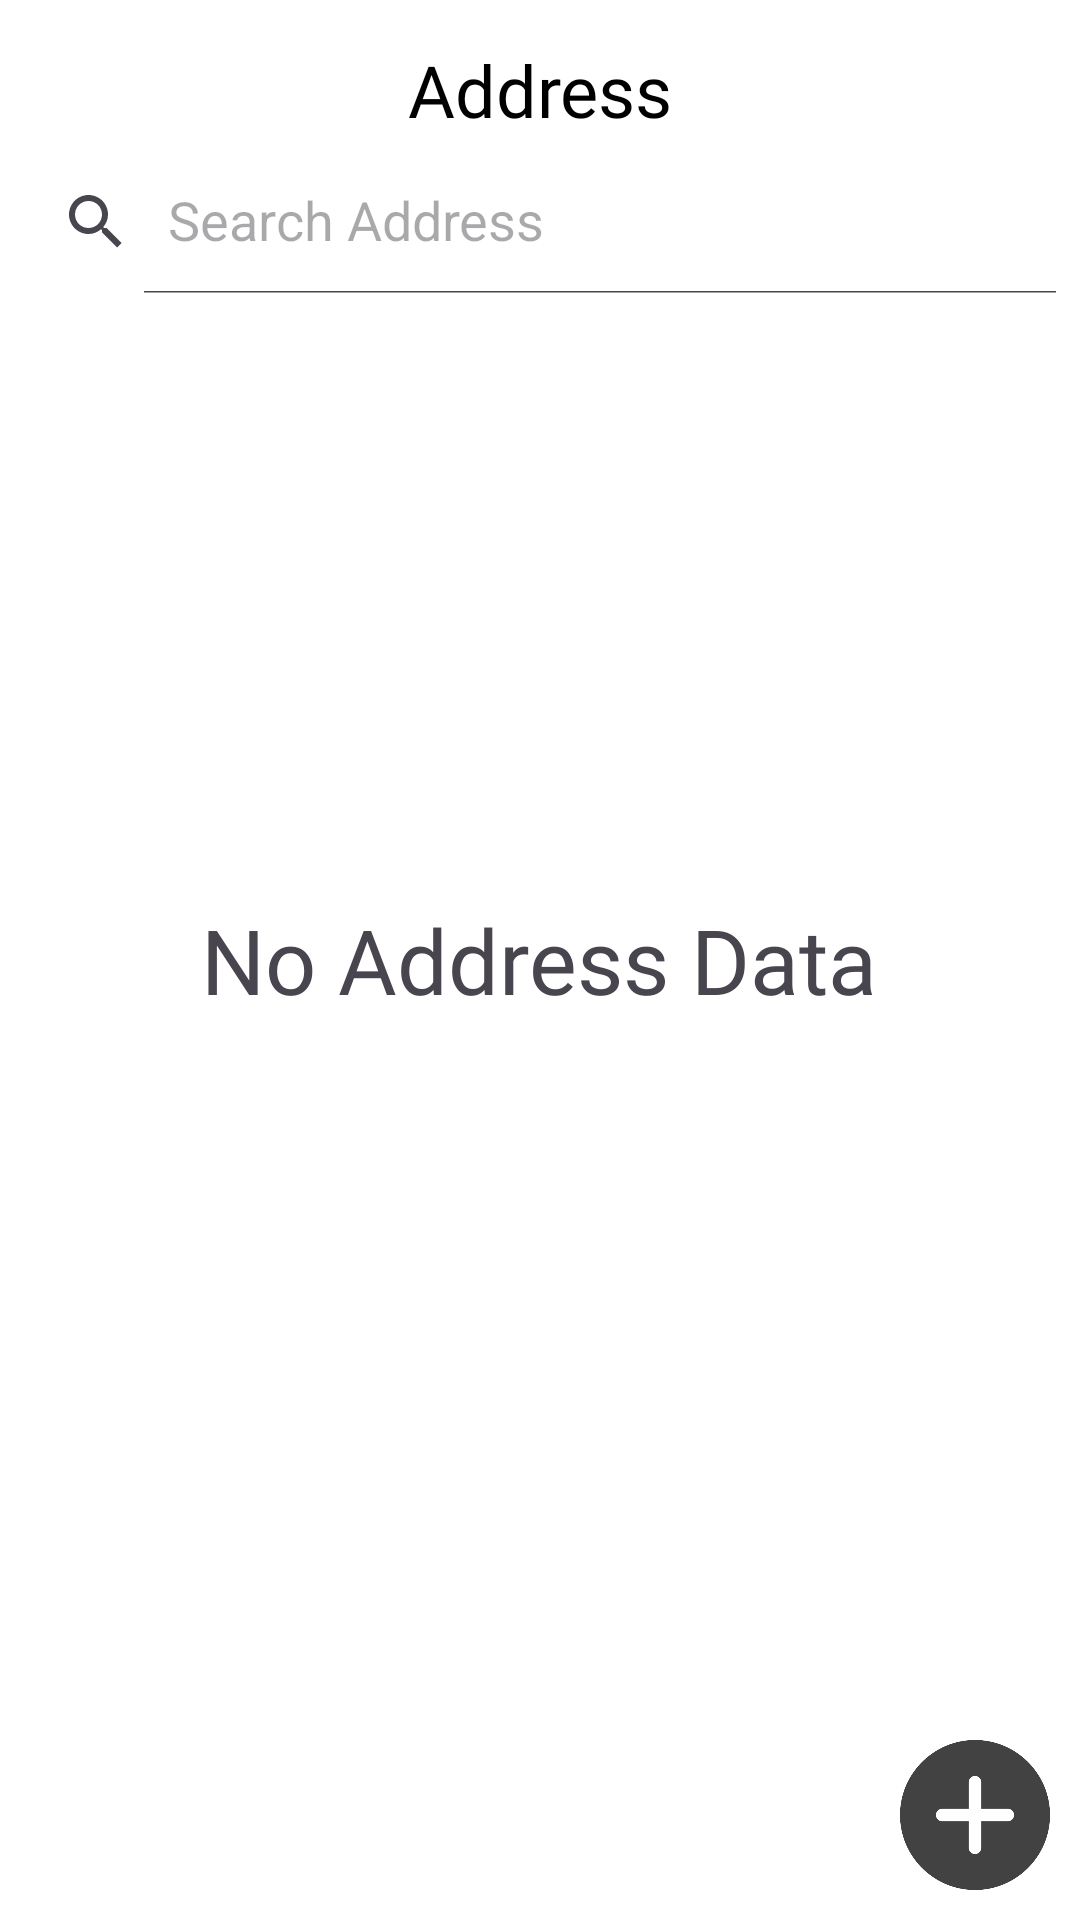

Where icons sit on this 1080 x 1920 app screen, as [x1=x1, y1=y1, x2=x2, y2=y2]:
plusbutton: [x1=900, y1=1740, x2=1050, y2=1890]
